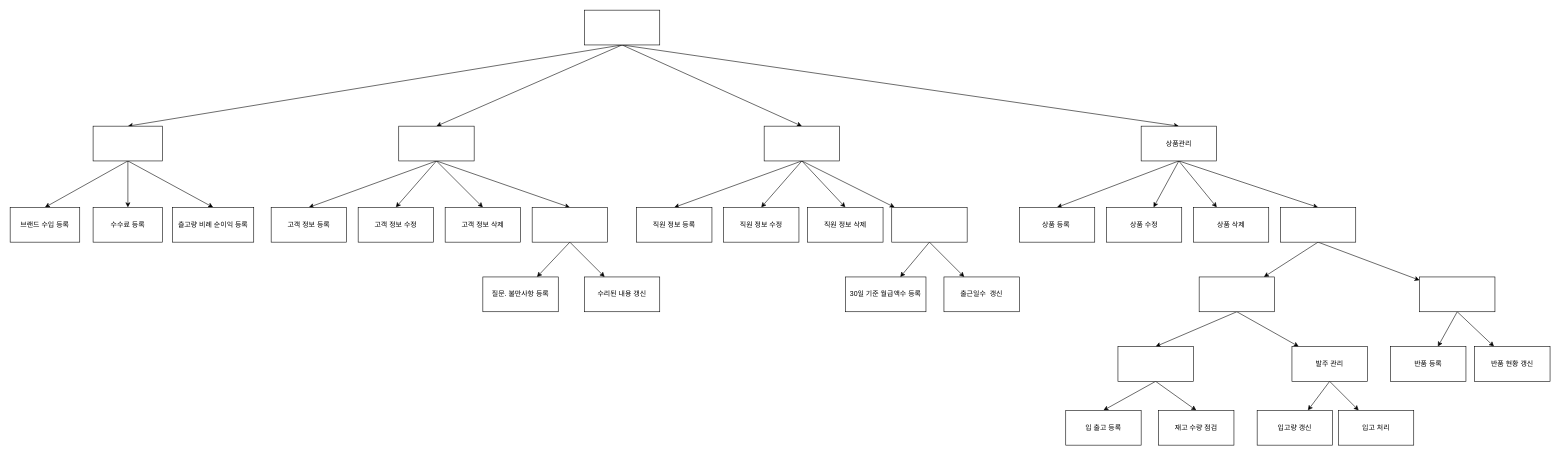
This 1560x455 diagram has some shape labels left out. The shapes that lost their labels are listed below. From the top down, each one's centre as x and y in pixels, then its label:
At point (622, 27): "의류 매장 ERP 시스템".
At point (128, 143): "재무관리".
At point (436, 143): "고객관리".
At point (802, 143): "인사관리".
At point (570, 224): "고객 Q&A".
At point (929, 224): "직원 월급 계산".
At point (1318, 224): "재고관리".
At point (1237, 294): "재고 수량 수정".
At point (1457, 294): "반품 관리".
At point (1155, 363): "입 출고 관리".
